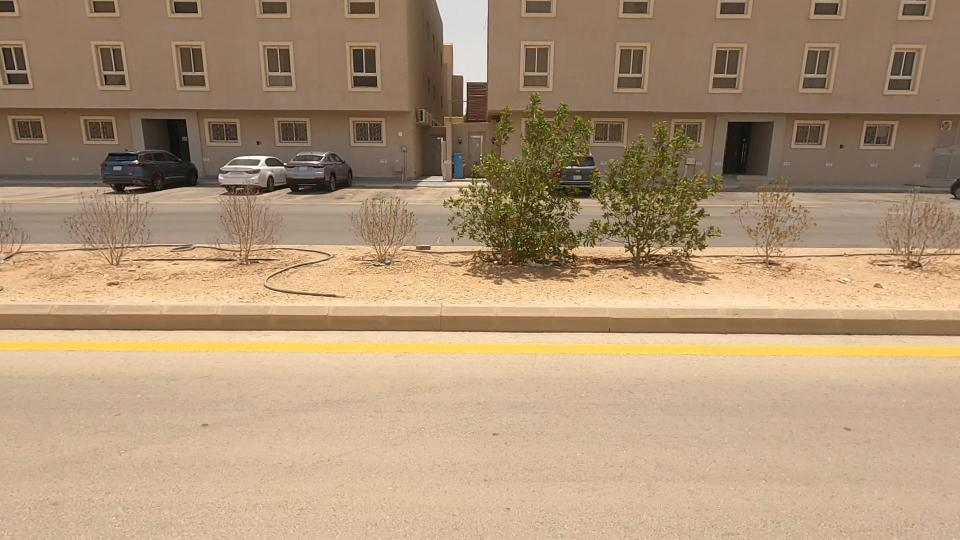GARBAGE: (31, 191, 436, 325)
